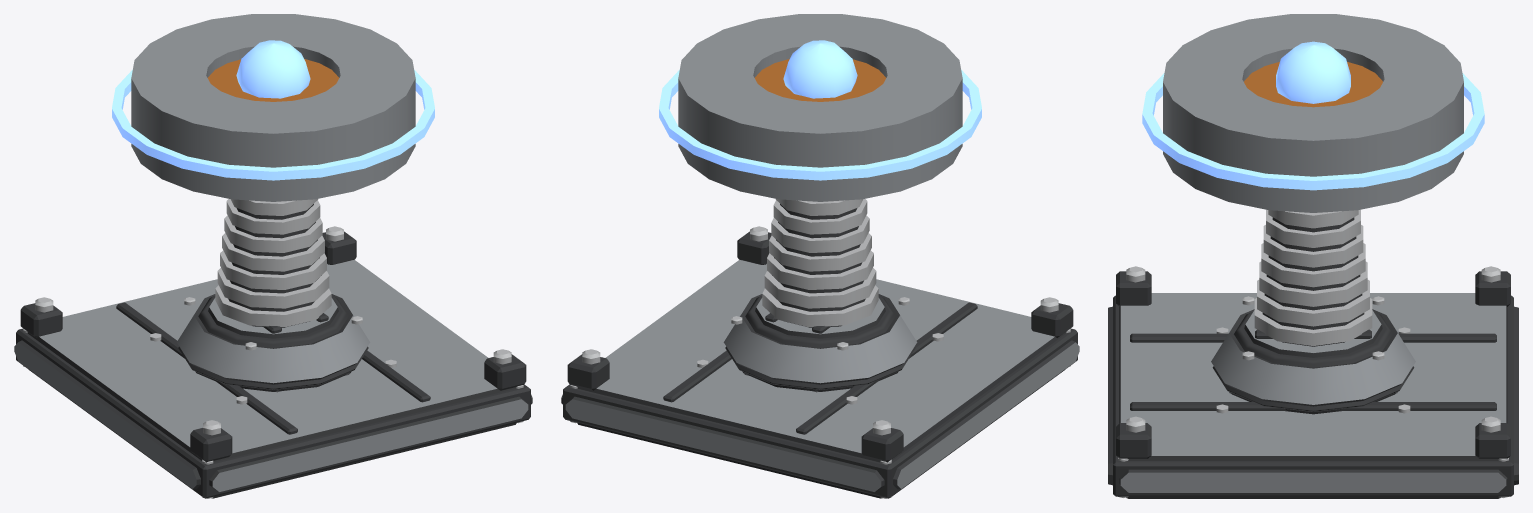
Rendered from R4X_AreaEMP.fbx.
The picture shows the model from 3 angles, left to right: view 1: azimuth 30°, elevation 25°; view 2: azimuth 150°, elevation 25°; view 3: azimuth 270°, elevation 25°; orthographic projection. The views are drawn at different scales.
Parts seen in each view (by area): view 1: R4X_AreaEMP_Body; view 2: R4X_AreaEMP_Body; view 3: R4X_AreaEMP_Body.
Part boxes in pixels (x1,y1,x2,y2): R4X_AreaEMP_Body: [14, 14, 532, 498]; R4X_AreaEMP_Body: [561, 14, 1079, 498]; R4X_AreaEMP_Body: [1108, 14, 1518, 498].
Bounding box in the file's own units: 0.52 × 0.52 × 0.52.
